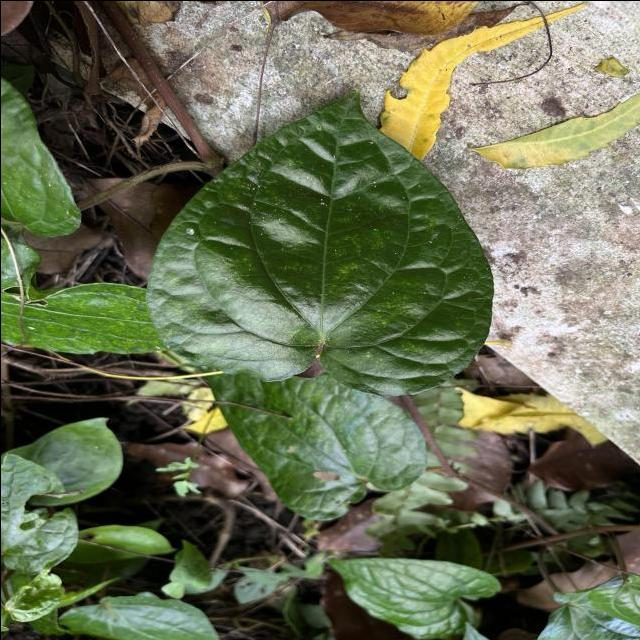Piper betle: (142, 87, 498, 399)
